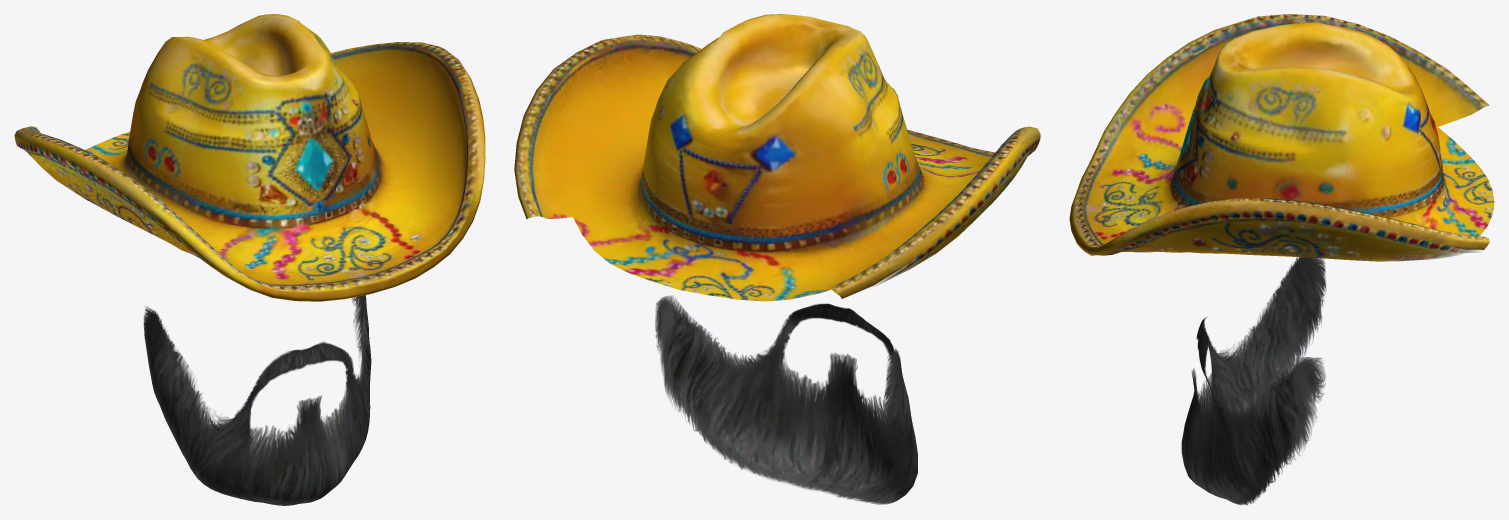
File: somybarb.glb
The picture shows the model from 3 angles, left to right: view 1: azimuth 30°, elevation 25°; view 2: azimuth 150°, elevation 25°; view 3: azimuth 270°, elevation 25°; orthographic projection. The views are drawn at different scales.
Parts seen in each view (by area): view 1: sombrero, barba completa; view 2: sombrero, barba completa; view 3: sombrero, barba completa.
Part boxes in pixels (left/top/right/bottom): sombrero: left=14, top=14, right=485, bottom=301; barba completa: left=143, top=295, right=371, bottom=505; sombrero: left=514, top=14, right=1040, bottom=301; barba completa: left=655, top=295, right=917, bottom=504; sombrero: left=1069, top=14, right=1494, bottom=261; barba completa: left=1181, top=257, right=1326, bottom=505.
Bounding box in the file's own units: 0.4588 × 0.4783 × 0.4175.
3 materials, 3 textured.
